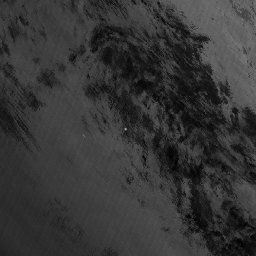Target: (123, 127, 128, 132)
